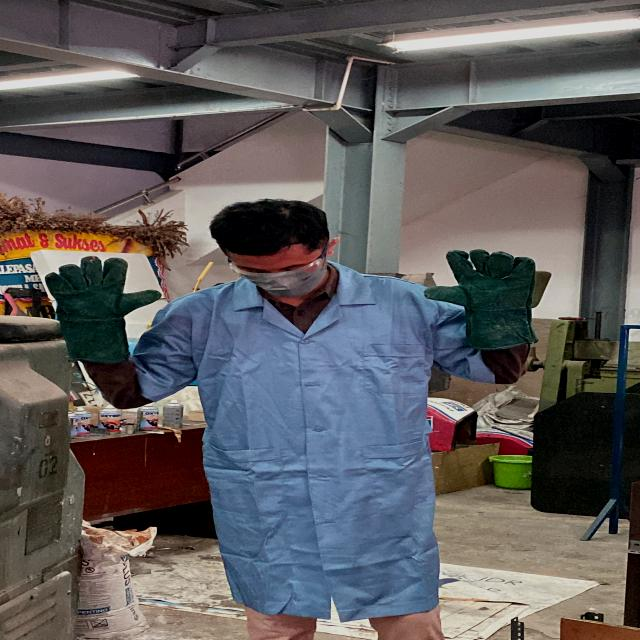face_mask: (228, 251, 330, 300)
glasses: (222, 258, 327, 282)
hand_glove: (37, 251, 167, 340), (415, 244, 545, 324)
head_nohelmet: (210, 207, 338, 261)
person: (29, 196, 572, 640)
